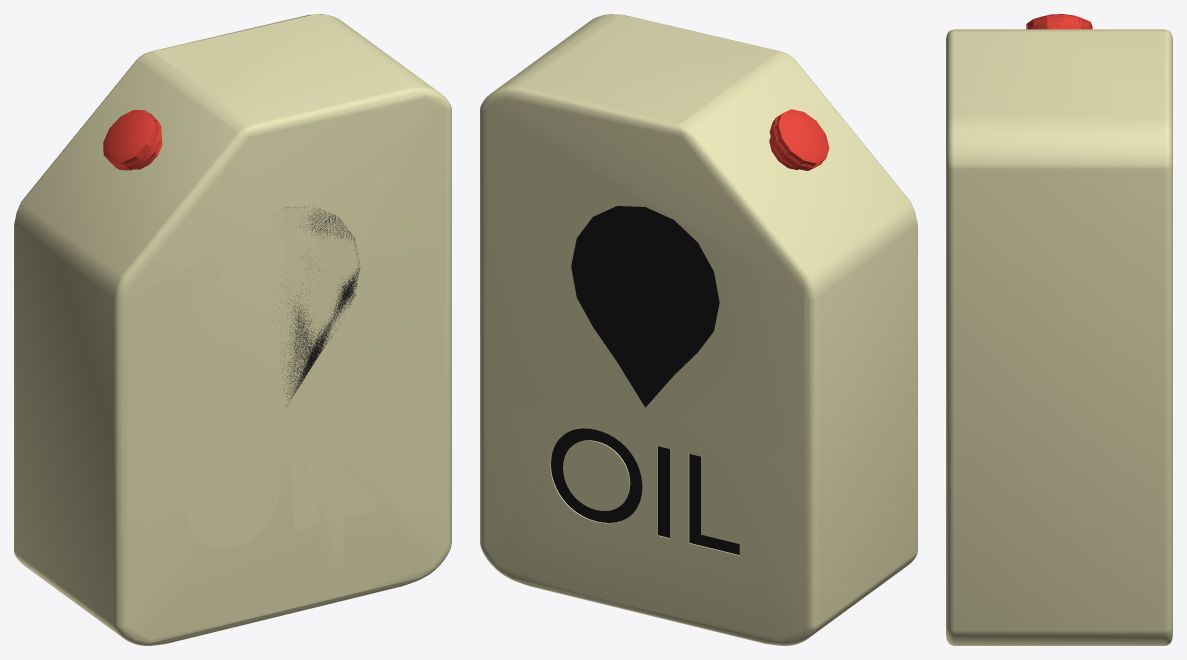
File: benzin bidonu.fbx
The picture shows the model from 3 angles, left to right: view 1: azimuth 30°, elevation 25°; view 2: azimuth 150°, elevation 25°; view 3: azimuth 270°, elevation 25°; orthographic projection. The views are drawn at different scales.
Parts seen in each view (by area): view 1: NurbsPath.001; view 2: NurbsPath.001; view 3: NurbsPath.001.
Boxes of the visible parts, x1,y1,x2,y2 form: NurbsPath.001: [14, 14, 451, 645]; NurbsPath.001: [480, 14, 917, 645]; NurbsPath.001: [946, 14, 1172, 645].
Size of the model in its own units: 0.3695 by 0.5218 by 0.203.
